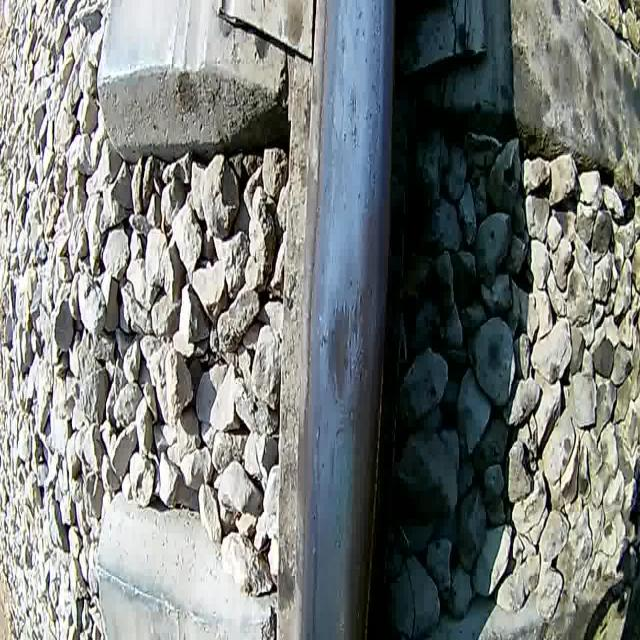Cracks: (309, 420, 323, 640), (346, 325, 370, 393), (327, 423, 349, 486)
Squats: (316, 286, 372, 411)
